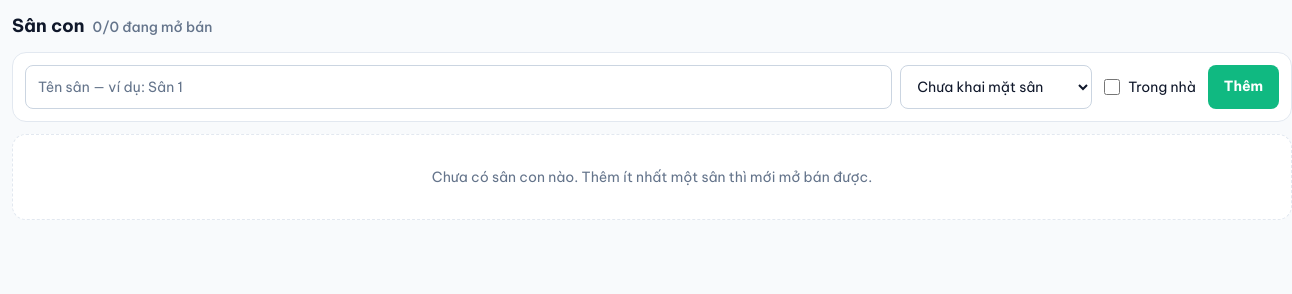
Scenario: CourtManager › thêm sân báo lỗi: tên, mặt sân, trong nhà vẫn còn như vừa nhập
Type "Sân VIP" into the field labelled "Tên sân" at (459, 87), box [25,65,892,109]
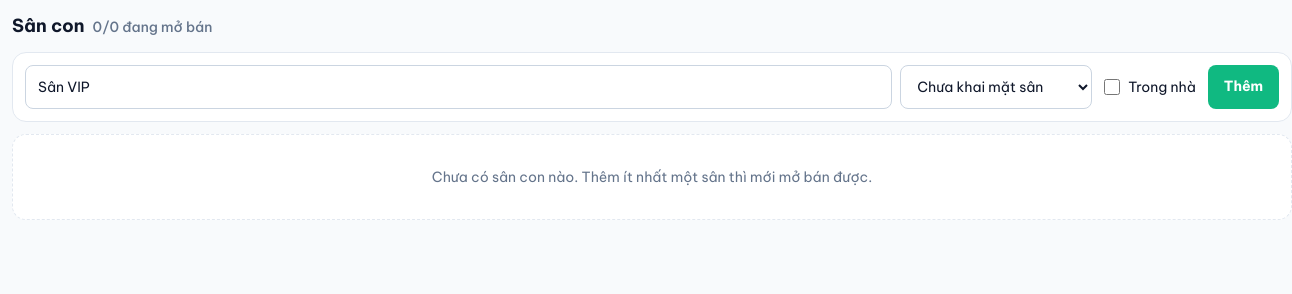
Select "Sơn epoxy" in the dropdown named "Mặt sân" at (996, 87), box [900,65,1092,109]
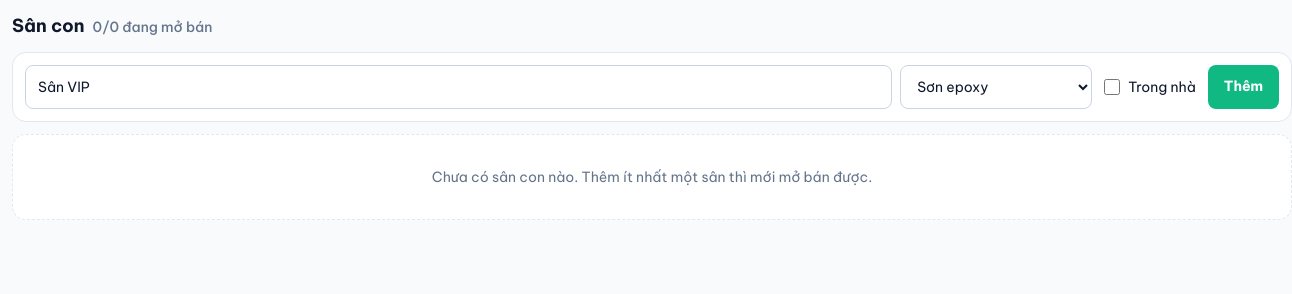
Click the checkbox labelled "Trong nhà" at (1112, 87), box [1104,79,1120,95]
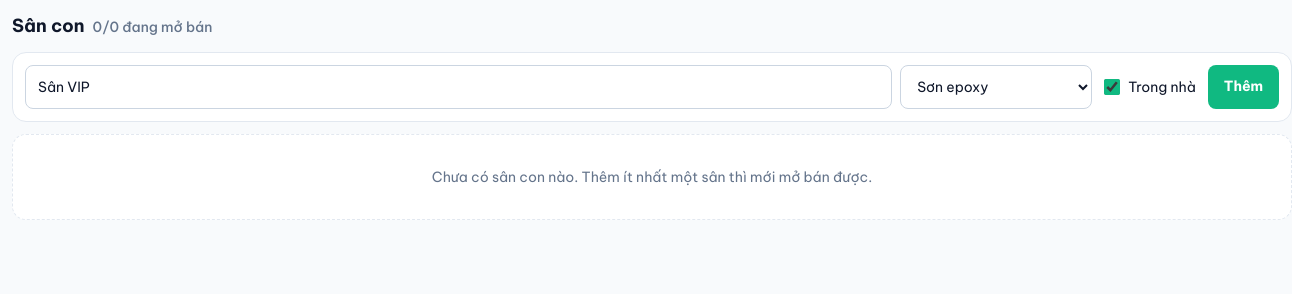
Submit the form, box [12,52,1291,122]
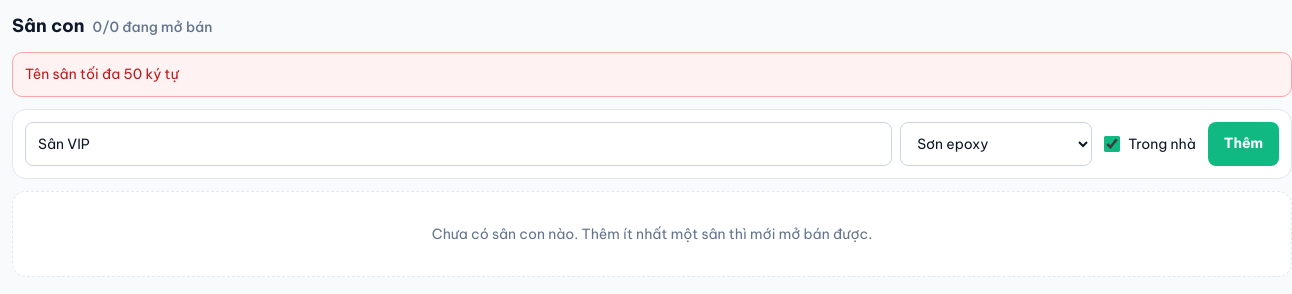
Expected: the checkbox labelled "Trong nhà" is checked, [1104,136,1120,152]
Expected: the dropdown named "Mặt sân" shows "Sơn epoxy", [900,122,1092,166]
Expected: the message shows "tối đa 50 ký tự", [25,65,179,83]
